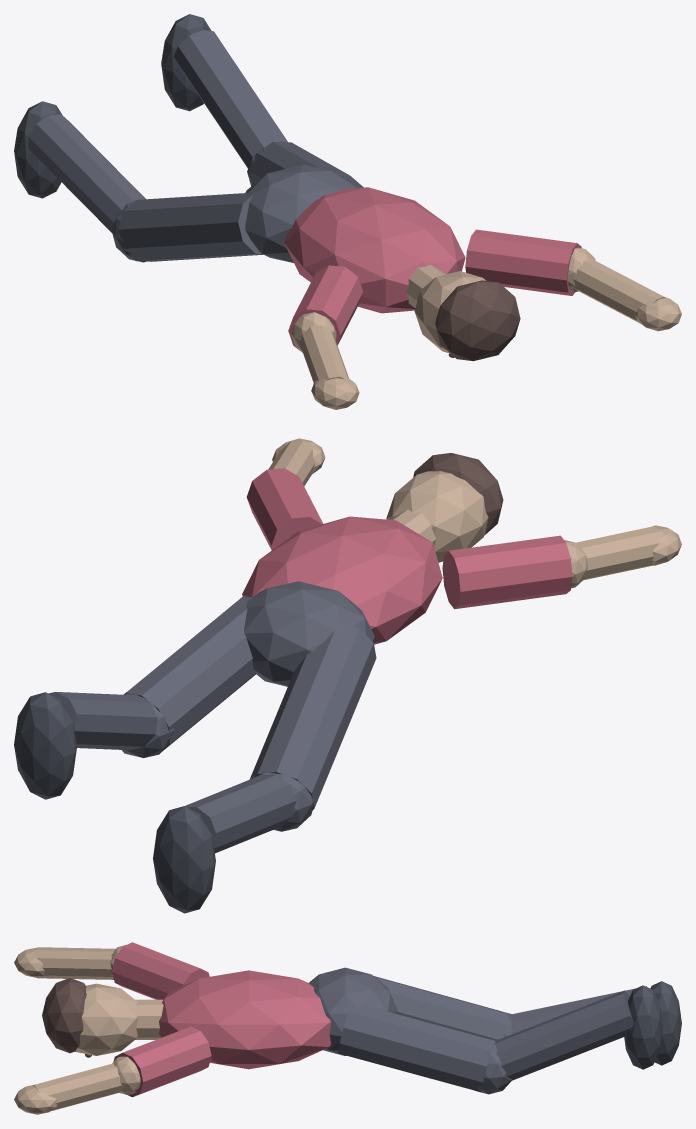
The picture shows the model from 3 angles, top to bottom: view 1: azimuth 30°, elevation 25°; view 2: azimuth 150°, elevation 25°; view 3: azimuth 270°, elevation 25°; orthographic projection. The views are drawn at different scales.
Visible parts, largest first — view 1: world; view 2: world; view 3: world.
Part boxes in pixels (x1,y1,x2,y2): world: (14,14,681,409); world: (14,438,681,913); world: (14,942,681,1114).
Bounding box in the file's own units: 1.17 × 0.4905 × 2.15.
